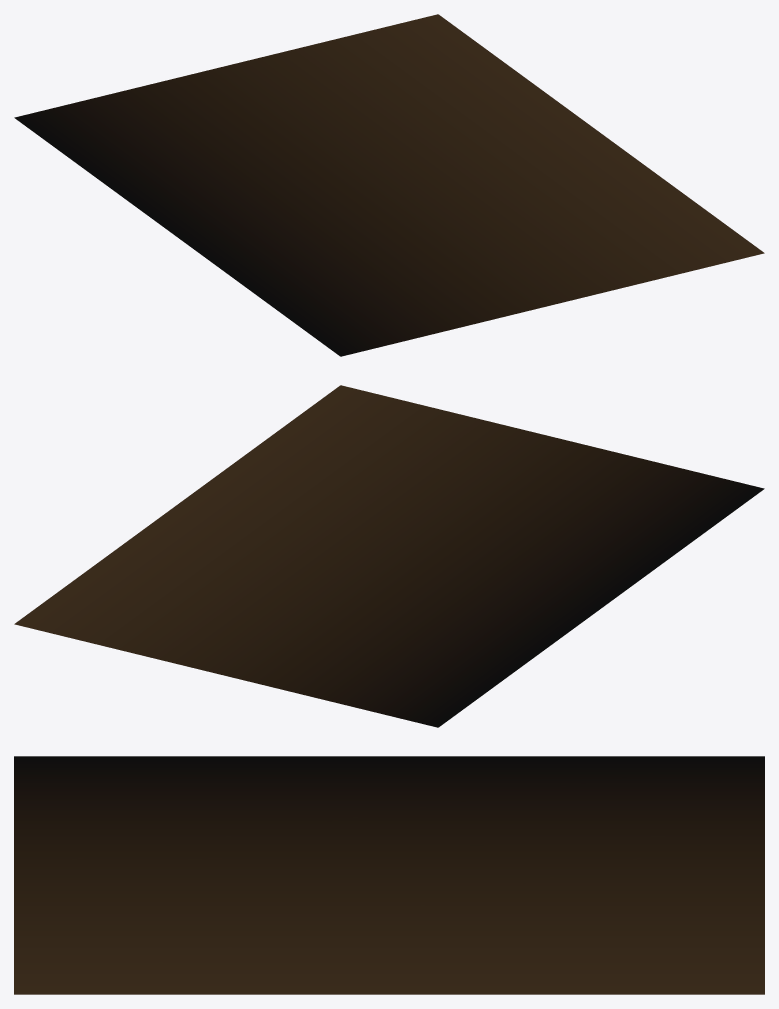
The picture shows the model from 3 angles, top to bottom: view 1: azimuth 30°, elevation 25°; view 2: azimuth 150°, elevation 25°; view 3: azimuth 270°, elevation 25°; orthographic projection. The views are drawn at different scales.
Size of the model in its own units: 0.75 by 0 by 1.
Materials: 1 (1 with a texture image).
